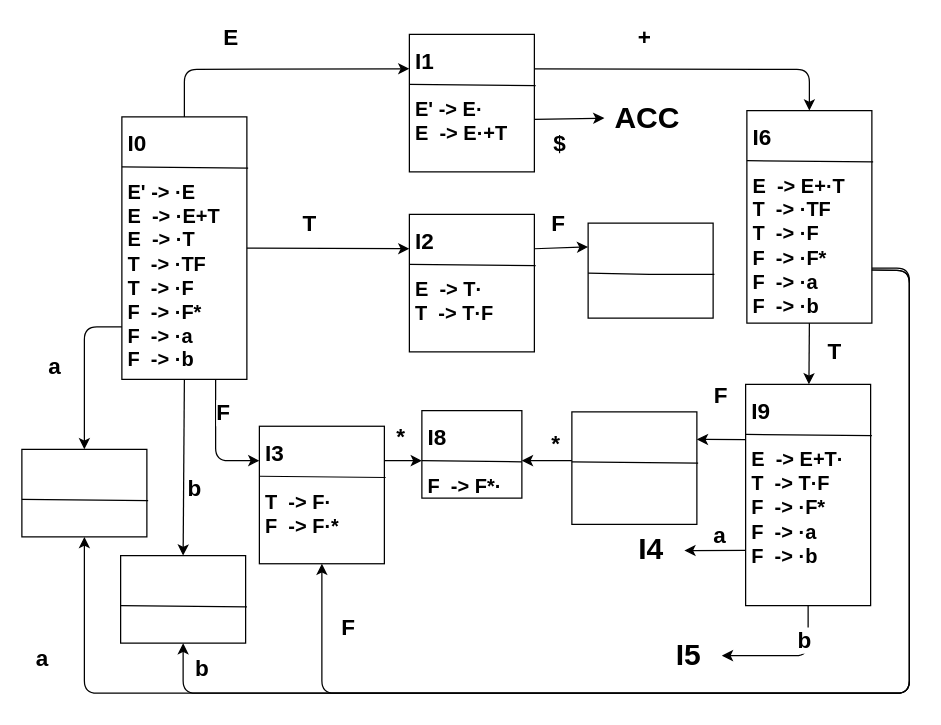
Some shapes in this 941 by 725 pixel diagram are drawn without their labels. Here are the shapes that lost their labels. From the top down, the centre of each, then its label:
point 650,270: I7 T -> TF ·
point 634,467: I10 T -> TF · F -> F · *
point 84,492: I4 F -> a ·
point 182,598: I5 F -> b ·
